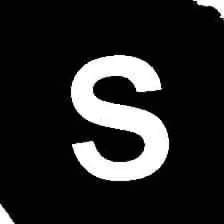LTR_S: (63, 48, 172, 187)
